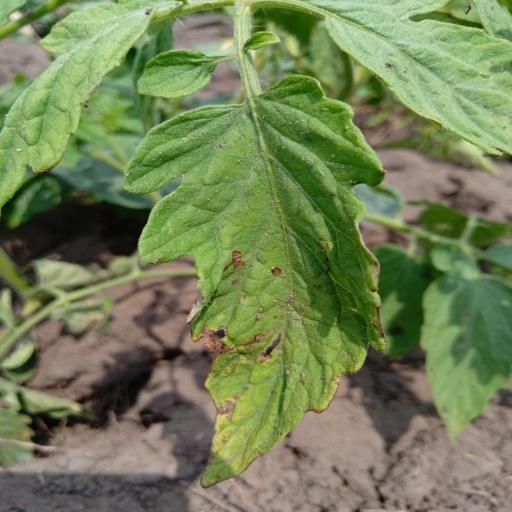Tomato_Brown_Spots: (122, 70, 386, 490), (286, 0, 512, 159)
